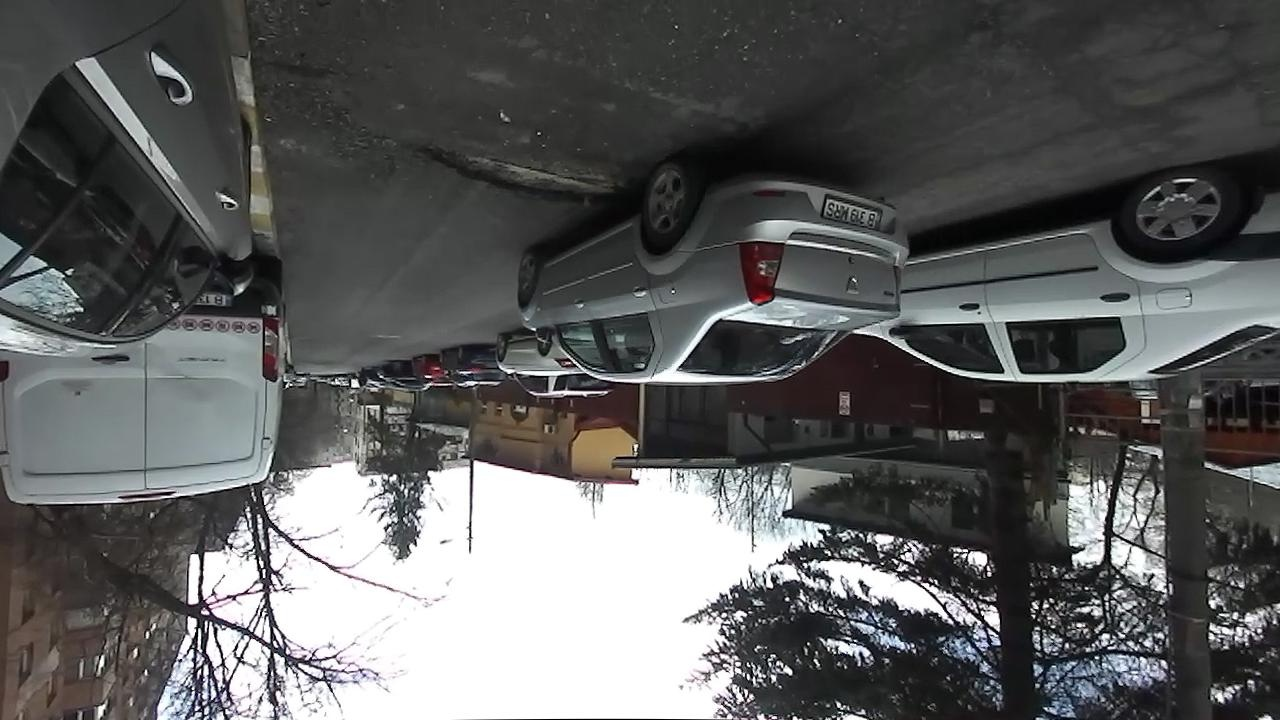pothole: (411, 136, 631, 206)
